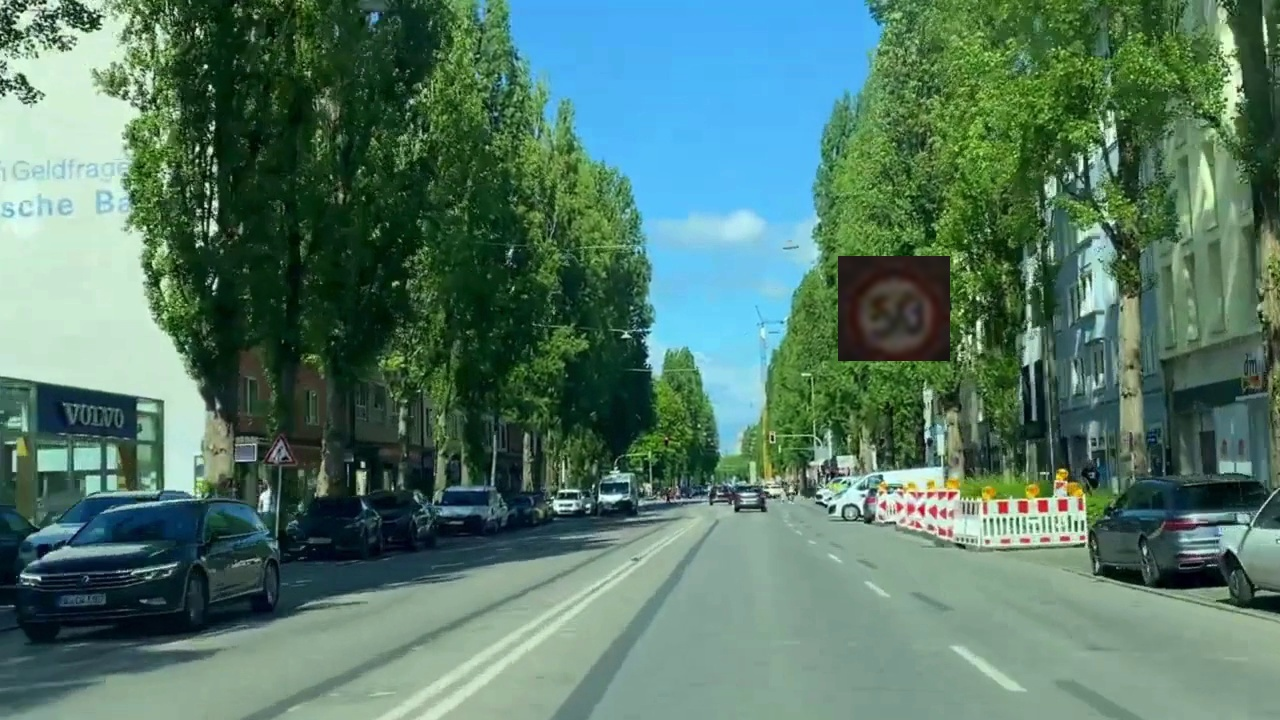Speed 50: (838, 256, 950, 361)
